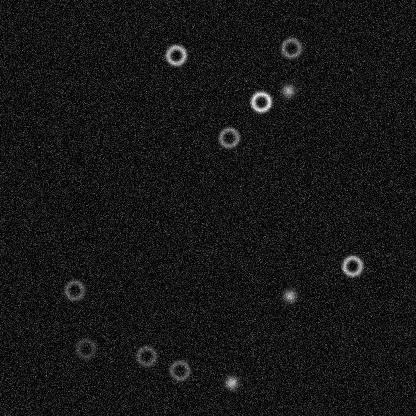Ring: (248, 89, 272, 113), (73, 336, 97, 360), (167, 358, 191, 382), (340, 253, 364, 277), (134, 343, 158, 367), (62, 278, 86, 302), (163, 43, 187, 67), (216, 125, 240, 149), (279, 35, 303, 59)
Spot: (223, 374, 239, 390), (281, 287, 297, 303), (280, 82, 296, 98)
